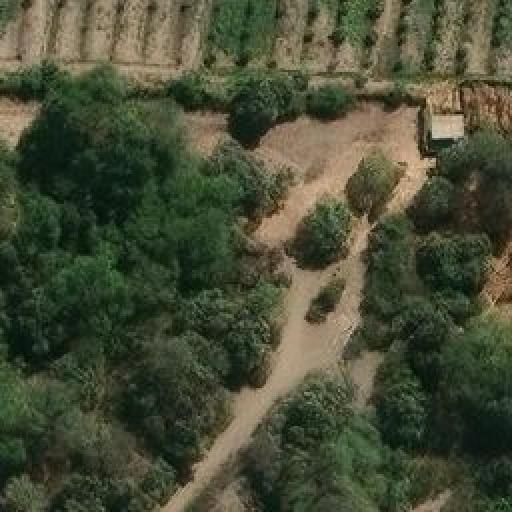manzanas: (423, 80, 473, 157)
